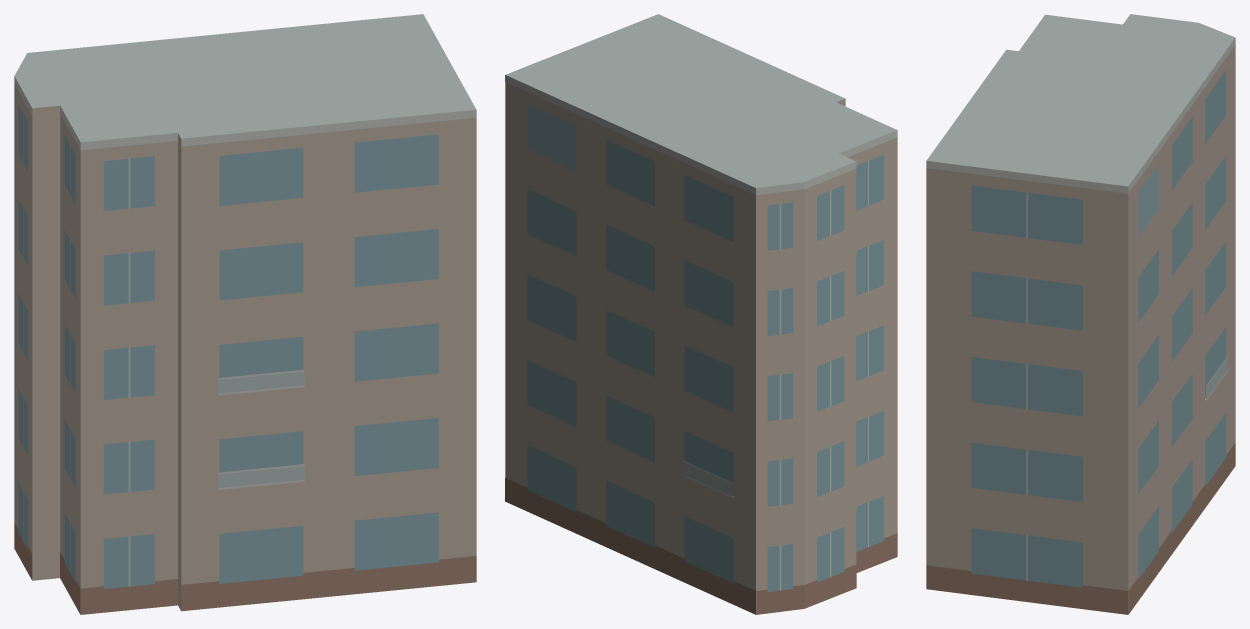
Rendered from survey-upis-32789979.glb.
3 views of the same model, side by side, from view 1: azimuth 30°, elevation 25°; view 2: azimuth 150°, elevation 25°; view 3: azimuth 270°, elevation 25° (orthographic). The views are drawn at different scales.
Visible parts, largest first — view 1: survey-upis-32789979.tmp; view 2: survey-upis-32789979.tmp; view 3: survey-upis-32789979.tmp.
Part boxes in pixels (<box>): survey-upis-32789979.tmp: <box>14,14,476,614</box>; survey-upis-32789979.tmp: <box>505,14,897,614</box>; survey-upis-32789979.tmp: <box>926,14,1235,614</box>.
Size of the model in its own units: 12.62 by 14.6 by 9.57.
